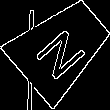N_NE: (30, 16, 92, 79)
